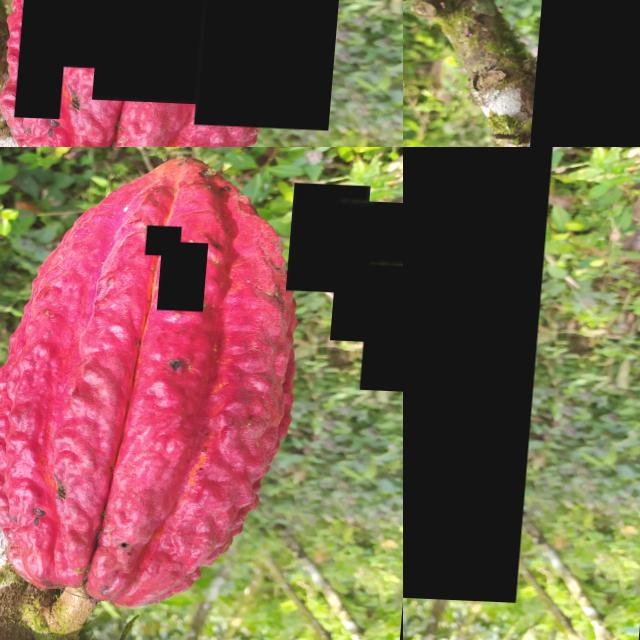Monilia: (99, 0, 263, 101), (534, 0, 640, 147)
Sana: (403, 147, 554, 597), (201, 0, 352, 125), (334, 195, 403, 337), (290, 178, 372, 288), (21, 0, 74, 116), (365, 257, 403, 386), (41, 0, 111, 64), (0, 428, 47, 522), (161, 238, 211, 308), (29, 222, 63, 255), (148, 222, 184, 253), (0, 312, 5, 330)
